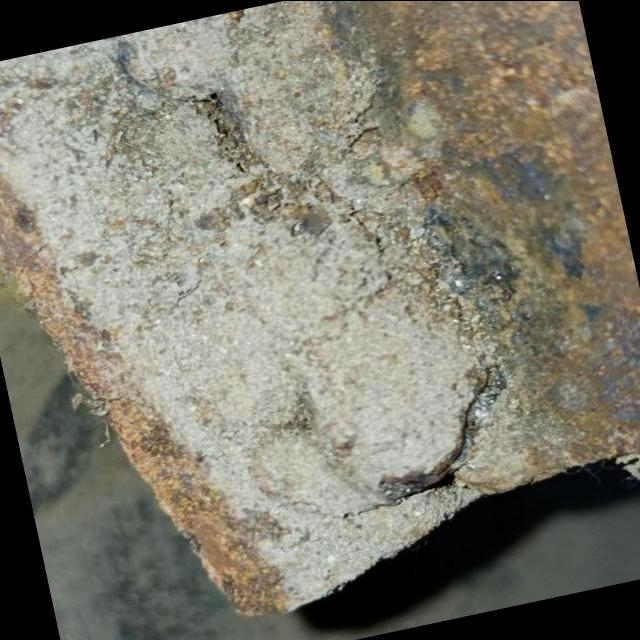defect: (353, 363, 502, 518)
